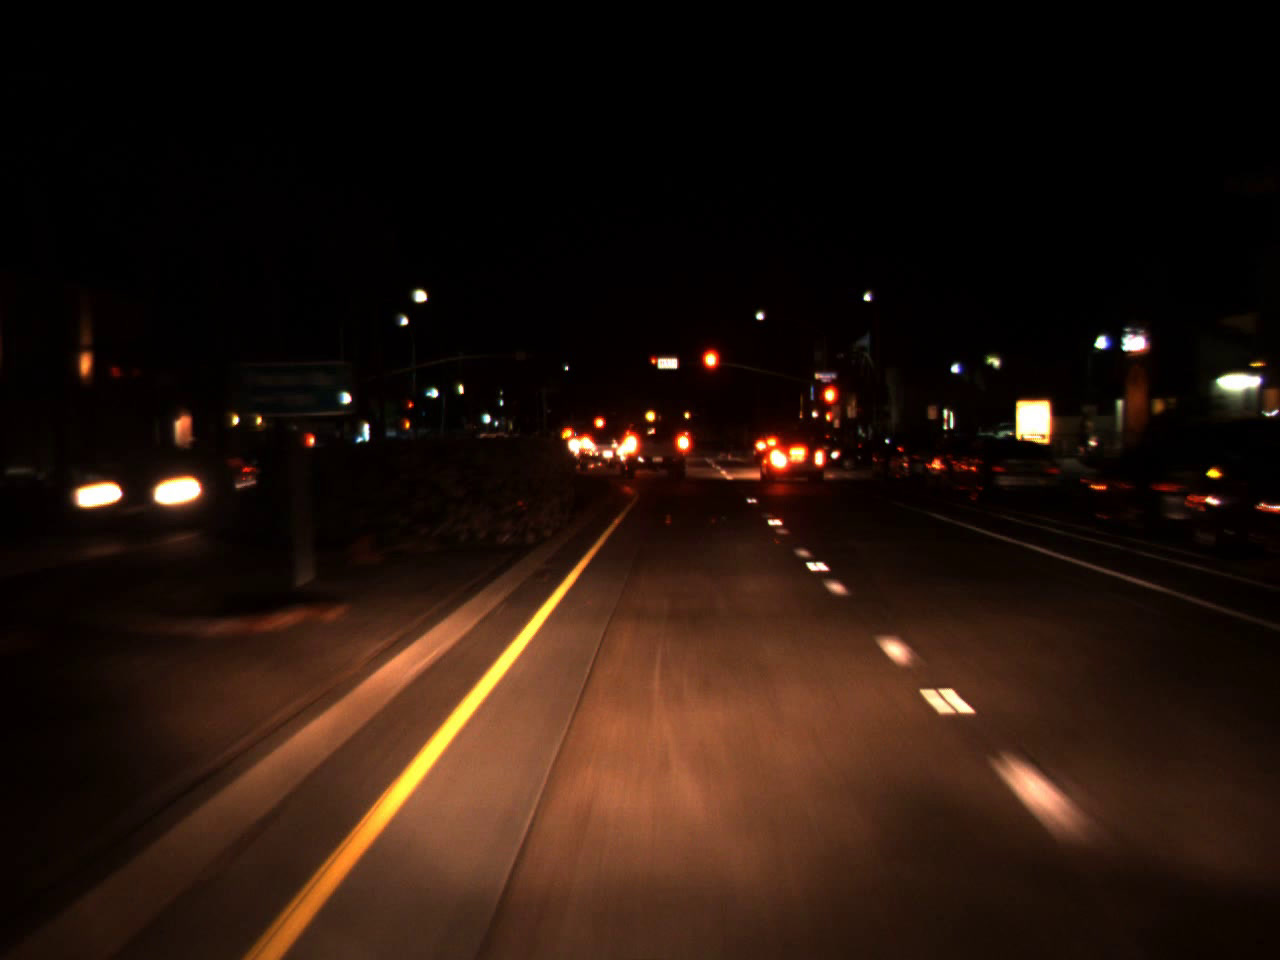stop: (699, 345, 721, 393), (821, 384, 839, 424), (650, 356, 659, 372), (407, 402, 413, 412)
